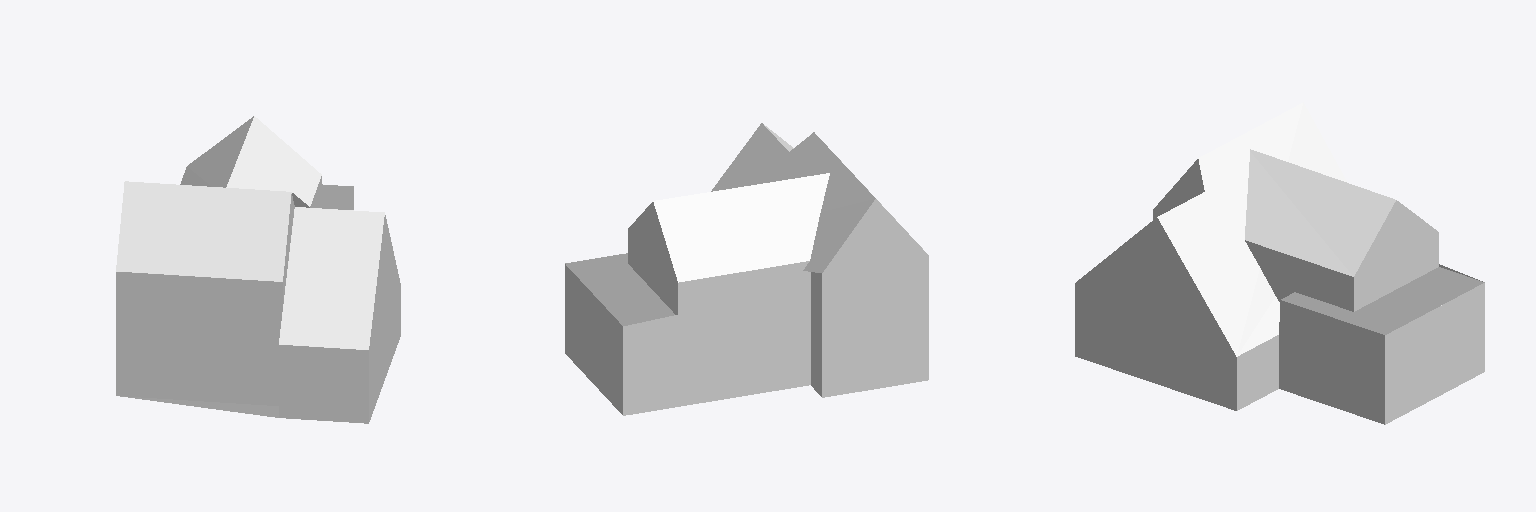
Rendered from house_Shape 315.obj.
3 renders of one model, left to right at view 1: azimuth 30°, elevation 25°; view 2: azimuth 150°, elevation 25°; view 3: azimuth 270°, elevation 25°, orthographic.
Parts seen in each view (by area): view 1: CityEngineMaterial_8, CityEngineMaterial_213, CityEngineMaterial_208, CityEngineMaterial_9; view 2: CityEngineMaterial_213, CityEngineMaterial_8, CityEngineMaterial_9; view 3: CityEngineMaterial_213, CityEngineMaterial_8, CityEngineMaterial_9.
Boxes of the visible parts, x1,y1,x2,y2 form: CityEngineMaterial_8: [116, 116, 384, 349]; CityEngineMaterial_213: [116, 176, 400, 423]; CityEngineMaterial_208: [116, 272, 282, 313]; CityEngineMaterial_9: [120, 184, 353, 417]; CityEngineMaterial_213: [565, 199, 928, 415]; CityEngineMaterial_8: [653, 123, 922, 282]; CityEngineMaterial_9: [565, 253, 674, 325]; CityEngineMaterial_213: [1075, 159, 1484, 424]; CityEngineMaterial_8: [1157, 102, 1395, 356]; CityEngineMaterial_9: [1281, 267, 1484, 334].
Bounding box in the file's own units: 15.35 × 9.28 × 18.08.